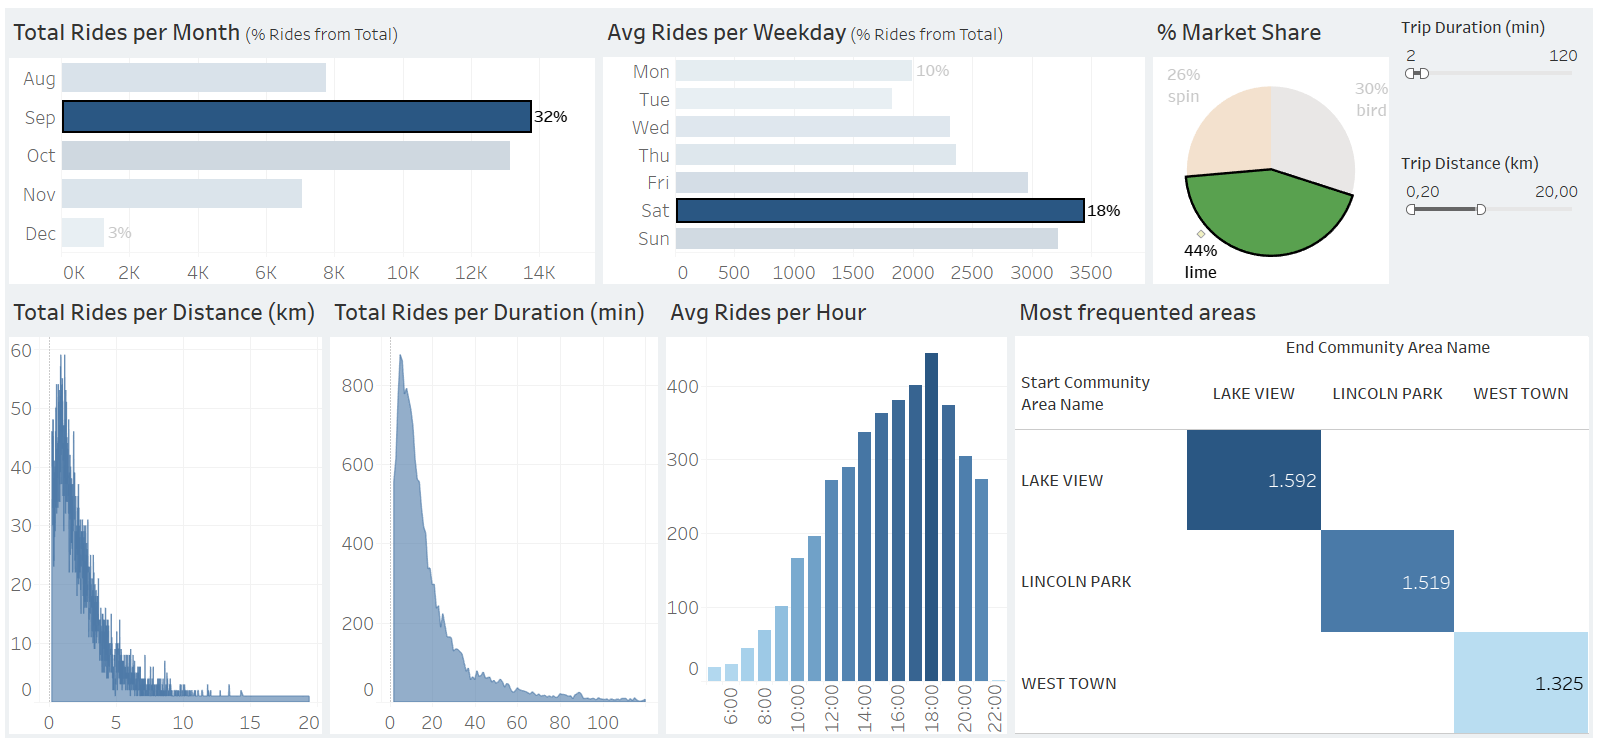

What the dashboard file says about the page in this screenshot:
{"tool":"tableau","page":{"name":"Dashboard 1","canvas":[1000,1000],"units":"permille","ordinal":0},"visuals":[{"type":"worksheet","title":"Month","mark":"Automatic","rows":["Calculation_1809039725246722051"],"cols":["Calculation_1809039725247815684"],"box":[5,10.7,370.3,375.3]},{"type":"worksheet","title":"Weekday","mark":"Automatic","rows":["Calculation_1809039725246529538"],"cols":["Calculation_1809039725397532679"],"box":[375.3,10.7,342.9,375.3]},{"type":"worksheet","title":"Vendor","mark":"Pie","box":[718.2,10.7,152.1,375.3]},{"type":"filter","title":"Duration","param":"[federated.150nl7a06rkbto19ctb4g0n73al2].[none:Trip Duration (min):qk]","box":[872.8,16.1,119.7,182.3]},{"type":"filter","title":"Distance","param":"[federated.150nl7a06rkbto19ctb4g0n73al2].[none:Trip Distance (km):qk]","box":[872.8,198.4,119.7,182.3]},{"type":"worksheet","title":"Distance","mark":"Area","rows":["Calculation_1809039725247815684"],"cols":["Trip Distance (km)"],"box":[5,386.1,200.3,603.2]},{"type":"worksheet","title":"Duration","mark":"Area","rows":["Calculation_1809039725247815684"],"cols":["Trip Duration (min)"],"box":[205.3,386.1,209.4,603.2]},{"type":"worksheet","title":"Time","mark":"Bar","rows":["Calculation_1809039725259685894"],"cols":["Calculation_1809039725245448193"],"box":[414.7,386.1,217.7,603.2]},{"type":"worksheet","title":"Area","mark":"Automatic","rows":["Start Community Area Name"],"cols":["End Community Area Name"],"box":[632.4,386.1,362.6,603.2]}]}

Visuals, with their boxes on the dashboard's canvas, which has no fixed pixel size, in thousandths of its width and height (x1, y1, x2, y2). These are canvas units, not pixel positions in the 1601x741 screenshot, which may show the page scaled, cropped or inside an application window:
"Month" worksheet: bbox=[5, 11, 375, 386]
"Weekday" worksheet: bbox=[375, 11, 718, 386]
"Vendor" worksheet (Pie marks): bbox=[718, 11, 870, 386]
"Duration" filter: bbox=[873, 16, 992, 198]
"Distance" filter: bbox=[873, 198, 992, 381]
"Distance" worksheet (Area marks): bbox=[5, 386, 205, 989]
"Duration" worksheet (Area marks): bbox=[205, 386, 415, 989]
"Time" worksheet (Bar marks): bbox=[415, 386, 632, 989]
"Area" worksheet: bbox=[632, 386, 995, 989]
